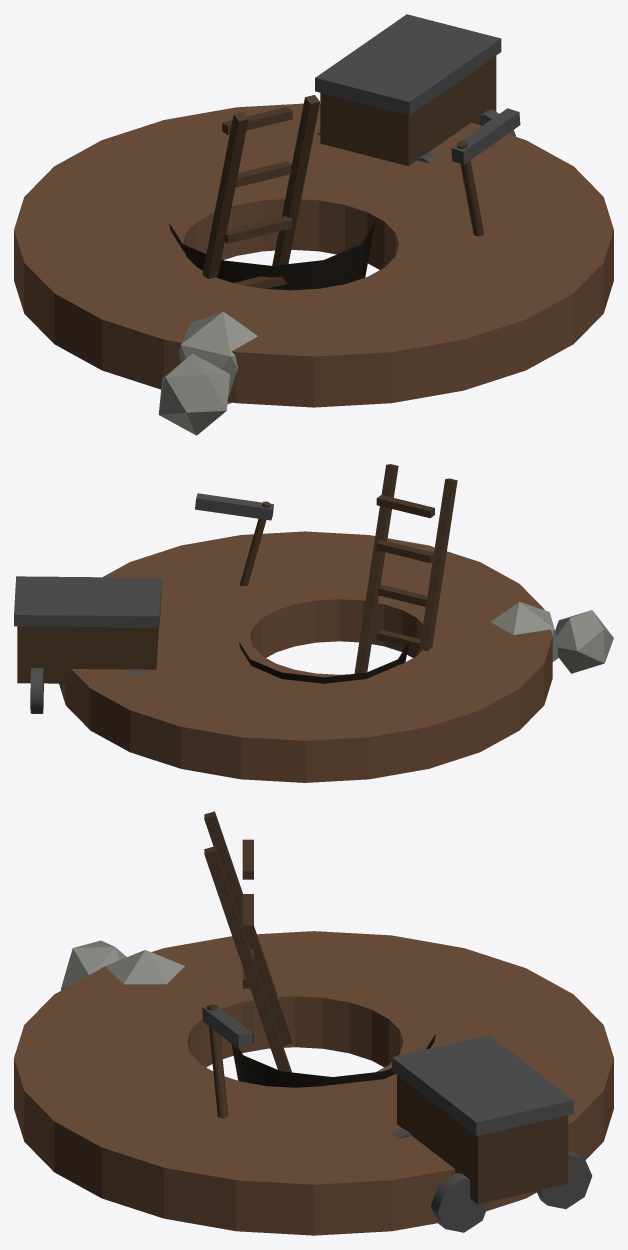
The model's file is mine_l1.glb.
3 renders of one model, top to bottom at view 1: azimuth 30°, elevation 25°; view 2: azimuth 150°, elevation 25°; view 3: azimuth 270°, elevation 25°, orthographic. The views are drawn at different scales.
Parts seen in each view (by area): view 1: dirt_mound_0, cart_rim_15, cart_body_14, shaft_hole_1, spoil_rock_22, spoil_rock_20, ladder_rail_4, ladder_rail_5, pickaxe_head_12, ladder_rung_7, pickaxe_handle_11, ladder_rung_8 (+1 smaller); view 2: dirt_mound_0, cart_rim_15, cart_body_14, spoil_rock_22, ladder_rail_5, ladder_rail_4, spoil_rock_20, pickaxe_head_12, shaft_hole_1, ladder_rung_9, ladder_rung_8, pickaxe_handle_11 (+3 smaller); view 3: dirt_mound_0, cart_rim_15, cart_body_14, ladder_rail_5, ladder_rail_4, shaft_hole_1, cart_wheel_19, spoil_rock_20, spoil_rock_22, cart_wheel_17, pickaxe_head_12, pickaxe_handle_11.
Part boxes in pixels (bbox=[...]): dirt_mound_0: bbox=[14, 103, 613, 407]; cart_rim_15: bbox=[315, 14, 501, 115]; cart_body_14: bbox=[320, 56, 496, 165]; shaft_hole_1: bbox=[169, 223, 374, 290]; spoil_rock_22: bbox=[158, 353, 229, 435]; spoil_rock_20: bbox=[179, 311, 257, 404]; ladder_rail_4: bbox=[202, 112, 248, 278]; ladder_rail_5: bbox=[272, 95, 319, 265]; pickaxe_head_12: bbox=[451, 108, 520, 164]; ladder_rung_7: bbox=[223, 216, 292, 243]; pickaxe_handle_11: bbox=[457, 140, 483, 236]; ladder_rung_8: bbox=[235, 161, 291, 187]; dirt_mound_0: bbox=[59, 531, 552, 782]; cart_rim_15: bbox=[14, 576, 161, 627]; cart_body_14: bbox=[17, 626, 158, 683]; spoil_rock_22: bbox=[555, 610, 613, 673]; ladder_rail_5: bbox=[354, 464, 398, 673]; ladder_rail_4: bbox=[418, 478, 457, 653]; spoil_rock_20: bbox=[491, 602, 558, 661]; pickaxe_head_12: bbox=[195, 493, 273, 520]; shaft_hole_1: bbox=[239, 642, 408, 683]; ladder_rung_9: bbox=[376, 495, 434, 518]; ladder_rung_8: bbox=[376, 540, 434, 563]; pickaxe_handle_11: bbox=[239, 501, 270, 586]; dirt_mound_0: bbox=[14, 931, 613, 1235]; cart_rim_15: bbox=[392, 1035, 573, 1135]; cart_body_14: bbox=[397, 1075, 568, 1204]; ladder_rail_5: bbox=[204, 846, 291, 1072]; ladder_rail_4: bbox=[204, 811, 292, 1045]; shaft_hole_1: bbox=[231, 1034, 435, 1087]; cart_wheel_19: bbox=[430, 1173, 489, 1232]; spoil_rock_20: bbox=[100, 950, 184, 984]; spoil_rock_22: bbox=[61, 940, 126, 990]; cart_wheel_17: bbox=[536, 1151, 592, 1208]; pickaxe_head_12: bbox=[202, 1006, 252, 1049]; pickaxe_handle_11: bbox=[207, 1004, 227, 1118].
Size of the model in its own units: 3.25 by 1.53 by 3.2.
